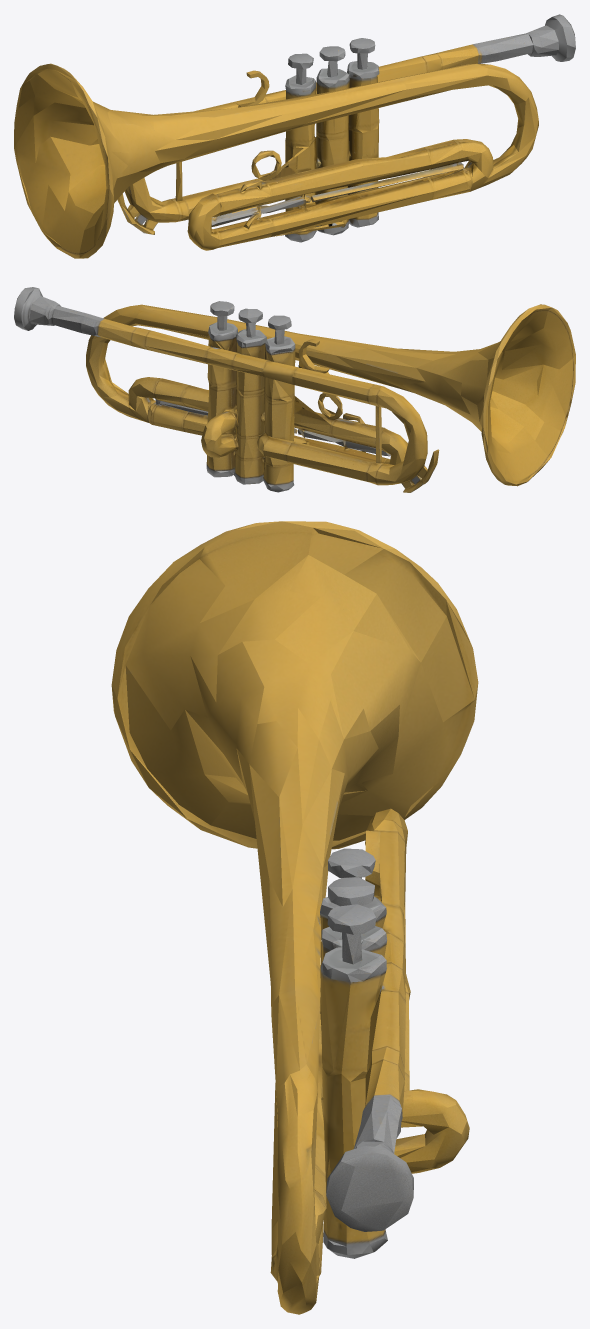
File: trumpet.glb
3 views of the same model, one above another, from view 1: azimuth 30°, elevation 25°; view 2: azimuth 150°, elevation 25°; view 3: azimuth 270°, elevation 25° (orthographic). The views are drawn at different scales.
Visible parts, largest first — view 1: output_unwrapped; view 2: output_unwrapped; view 3: output_unwrapped.
Boxes of the visible parts, x1,y1,x2,y2 form: output_unwrapped: (14, 14, 575, 258); output_unwrapped: (14, 287, 575, 492); output_unwrapped: (111, 521, 478, 1314).
Bounding box in the file's own units: 1.9 × 0.8245 × 0.6143.
Materials: 1 (1 with a texture image).
